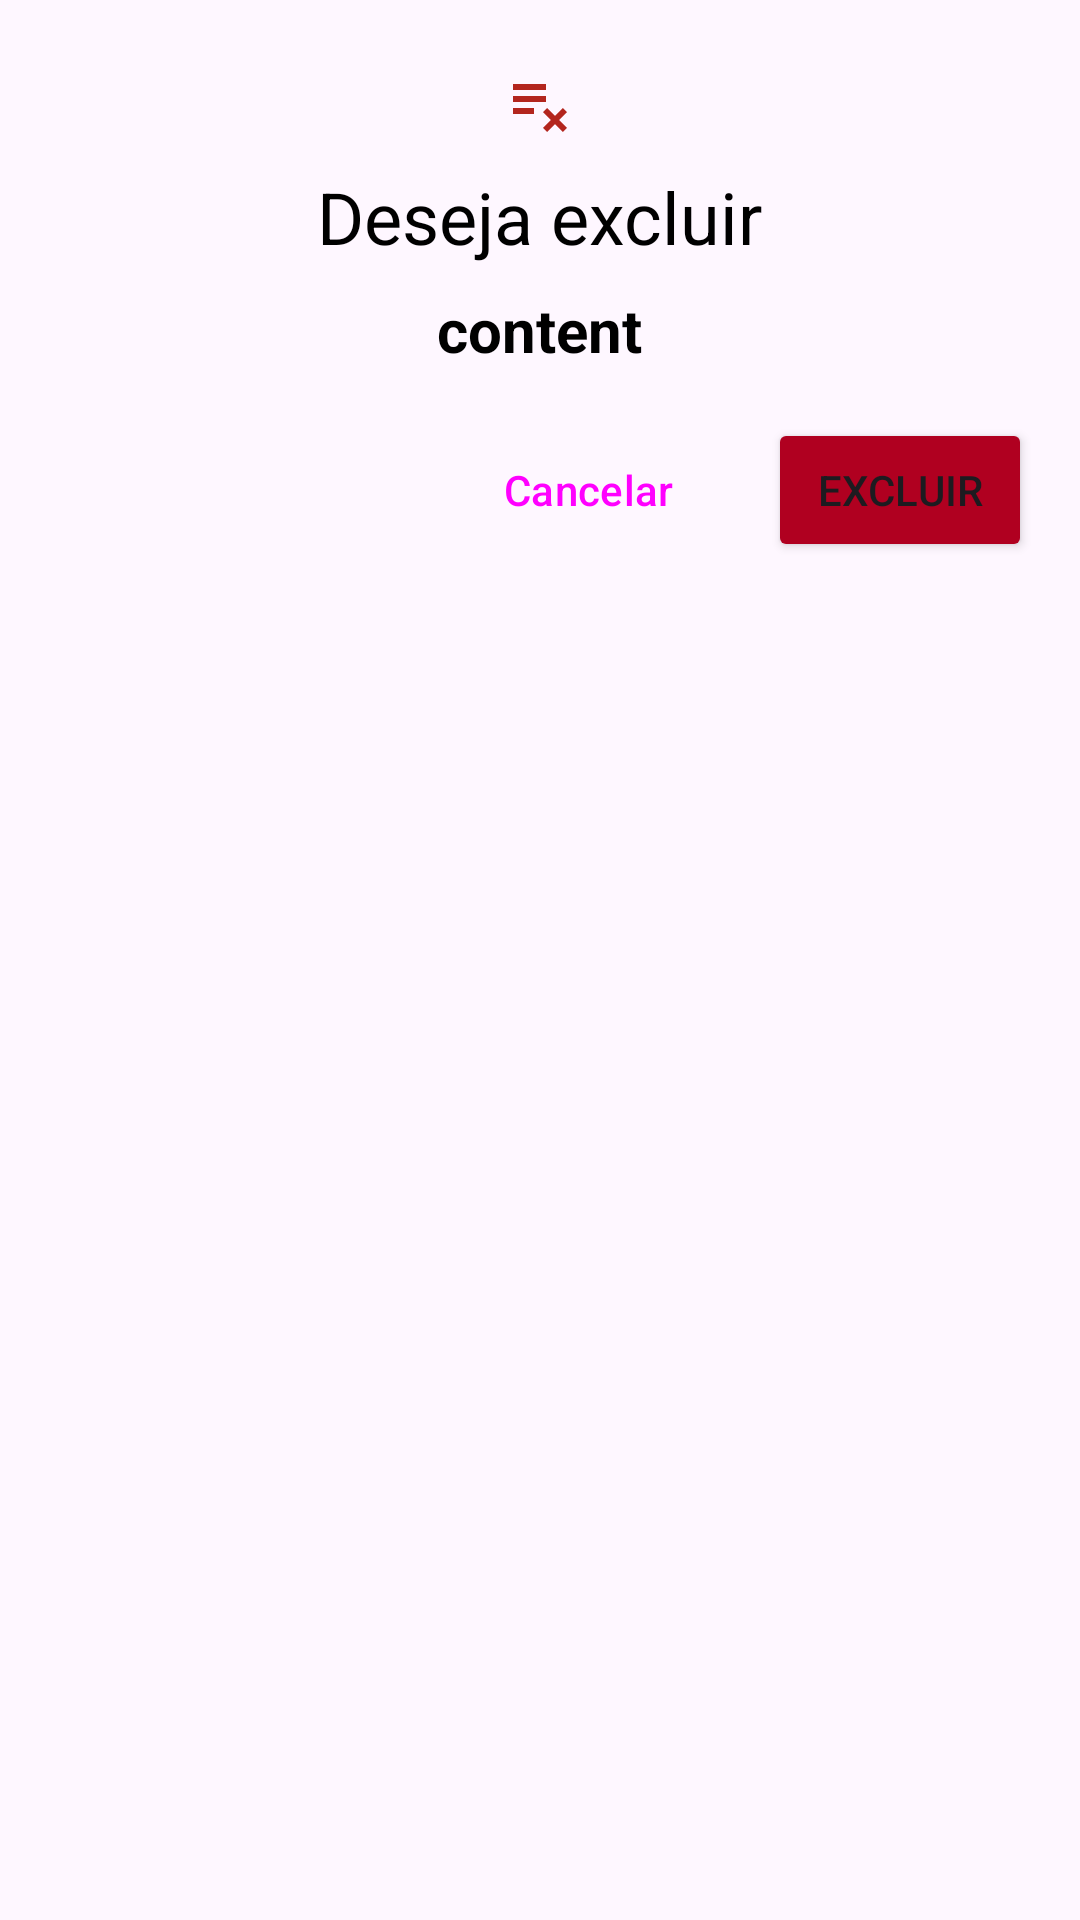

Screen size 1080px×1920px. Icon name, then its center in pixels as [x,y]:
Playlist remove icon: [540,108]
